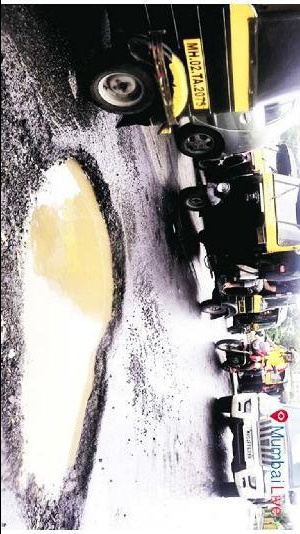pothole: (1, 144, 129, 532)
